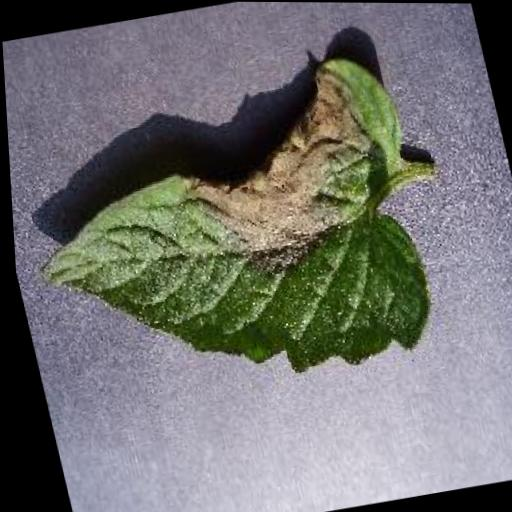Late Blight: (2, 44, 454, 415)
